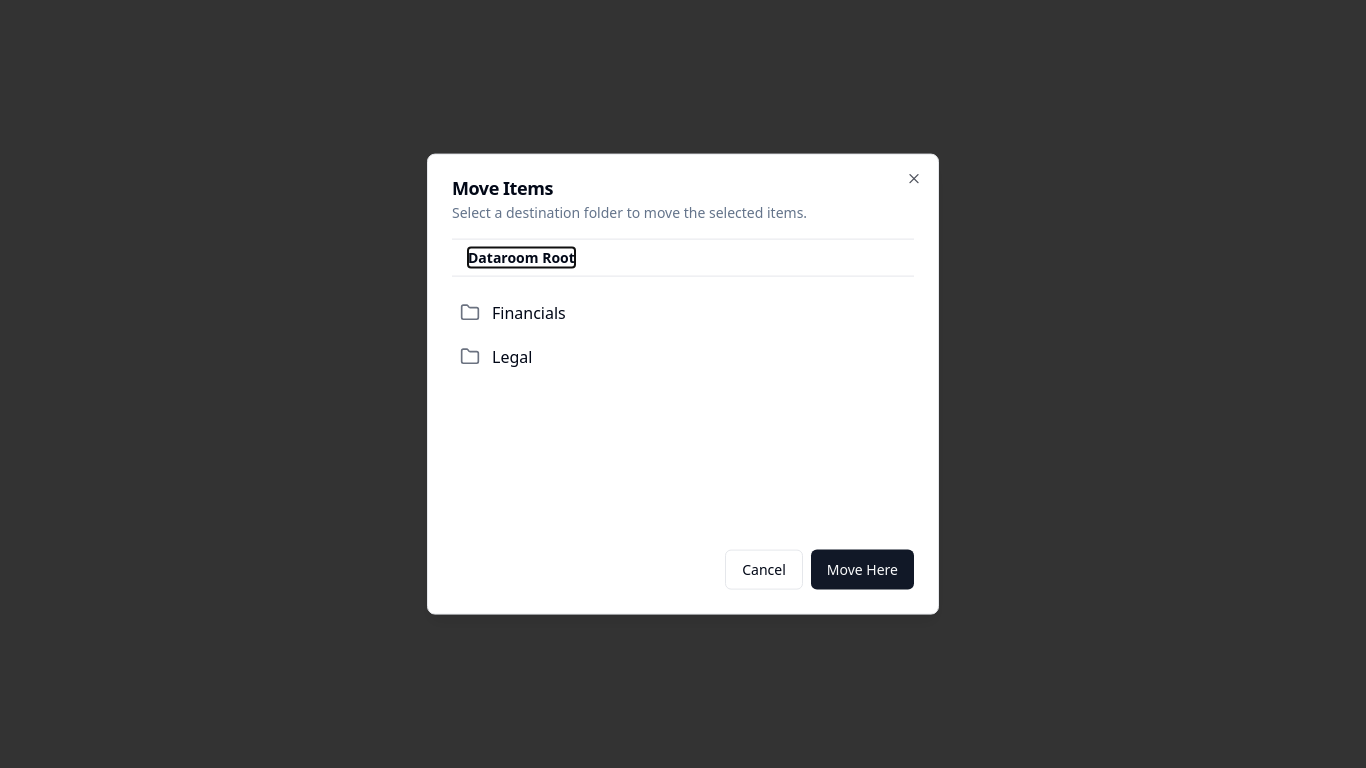
Scenario: DataroomMoveItemsDialog › allows navigating back to Dataroom Root from breadcrumbs
// Navigate to Financials
Click the button "Financials" at (529, 313), box [452,293,906,333]
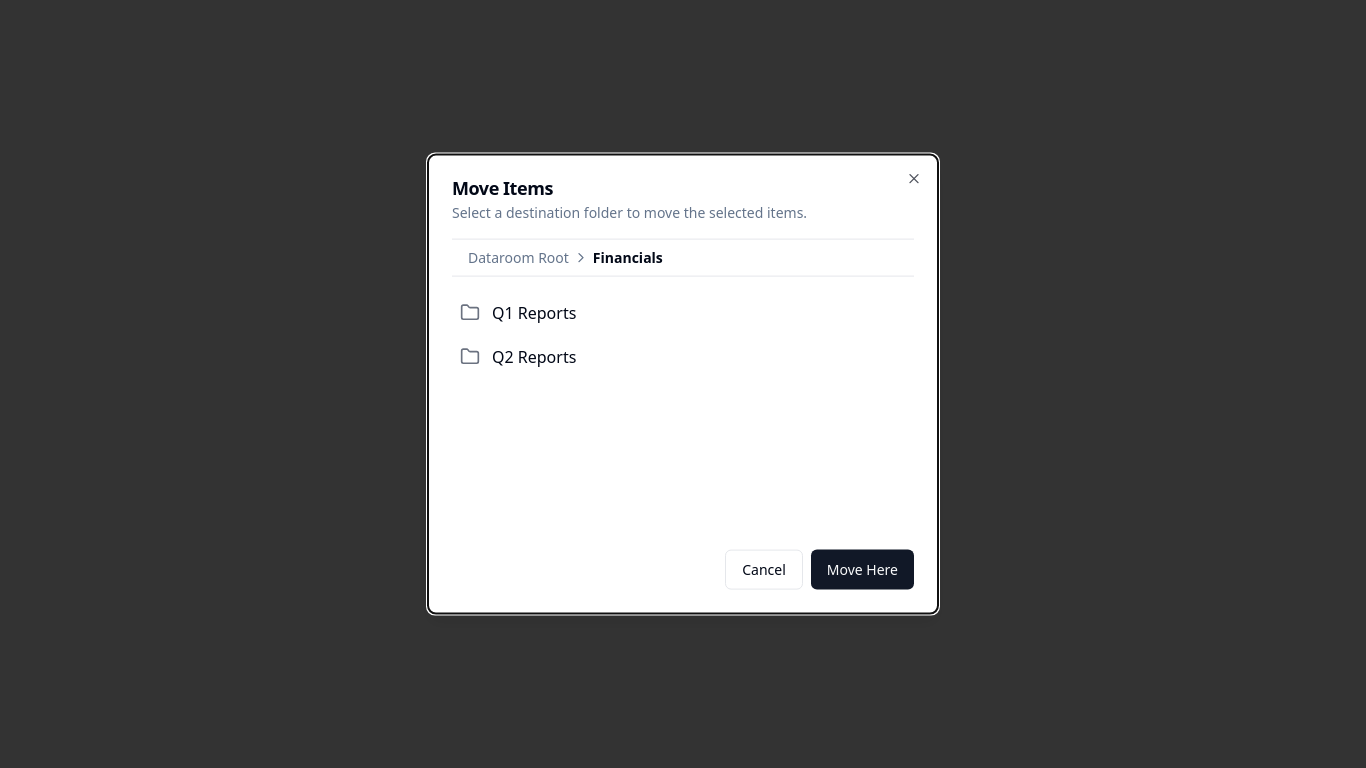
Now the text "Q1 Reports" is shown, box [492,302,576,324]
// Click Dataroom Root in breadcrumbs
Click the button "Dataroom Root" at (518, 258), box [468,248,569,268]
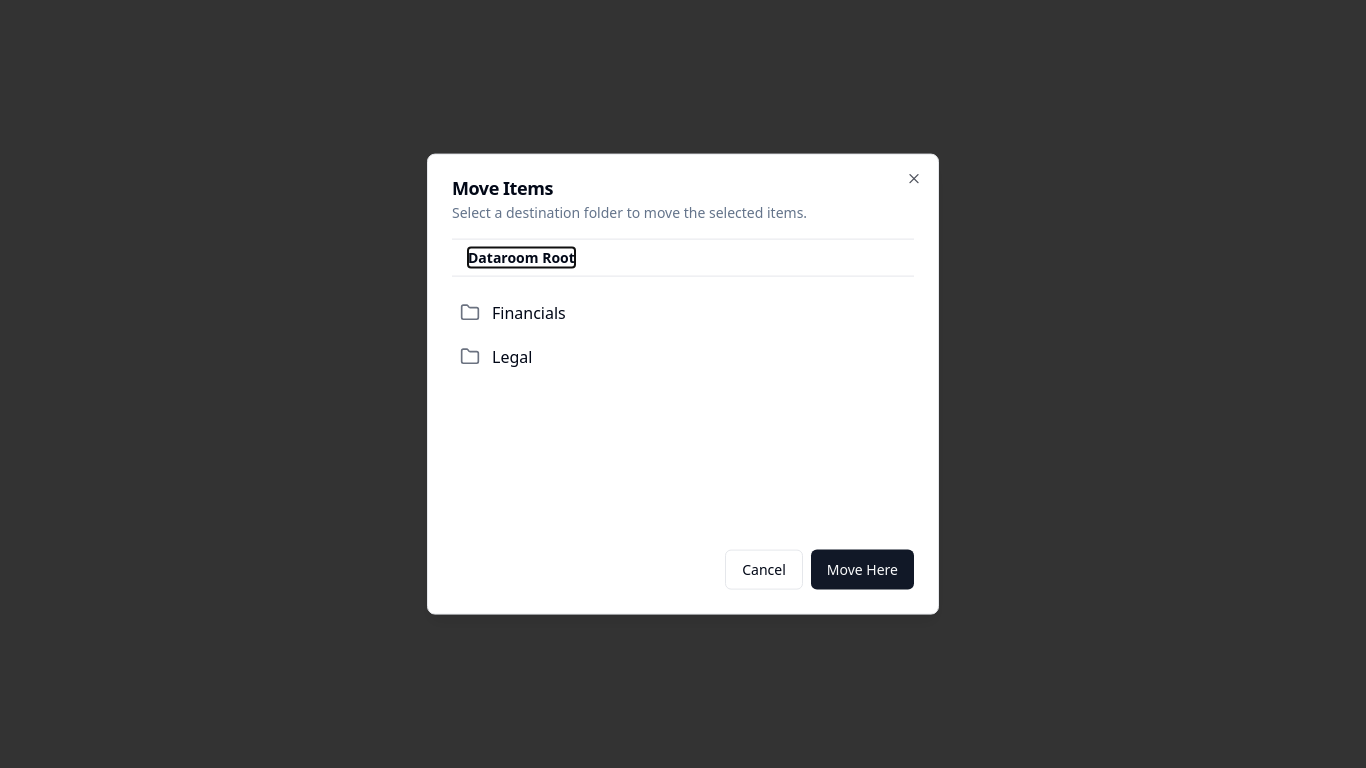
Now the text "Financials" is shown, box [492,302,566,324]
Now the text "Legal" is shown, box [492,346,532,368]
